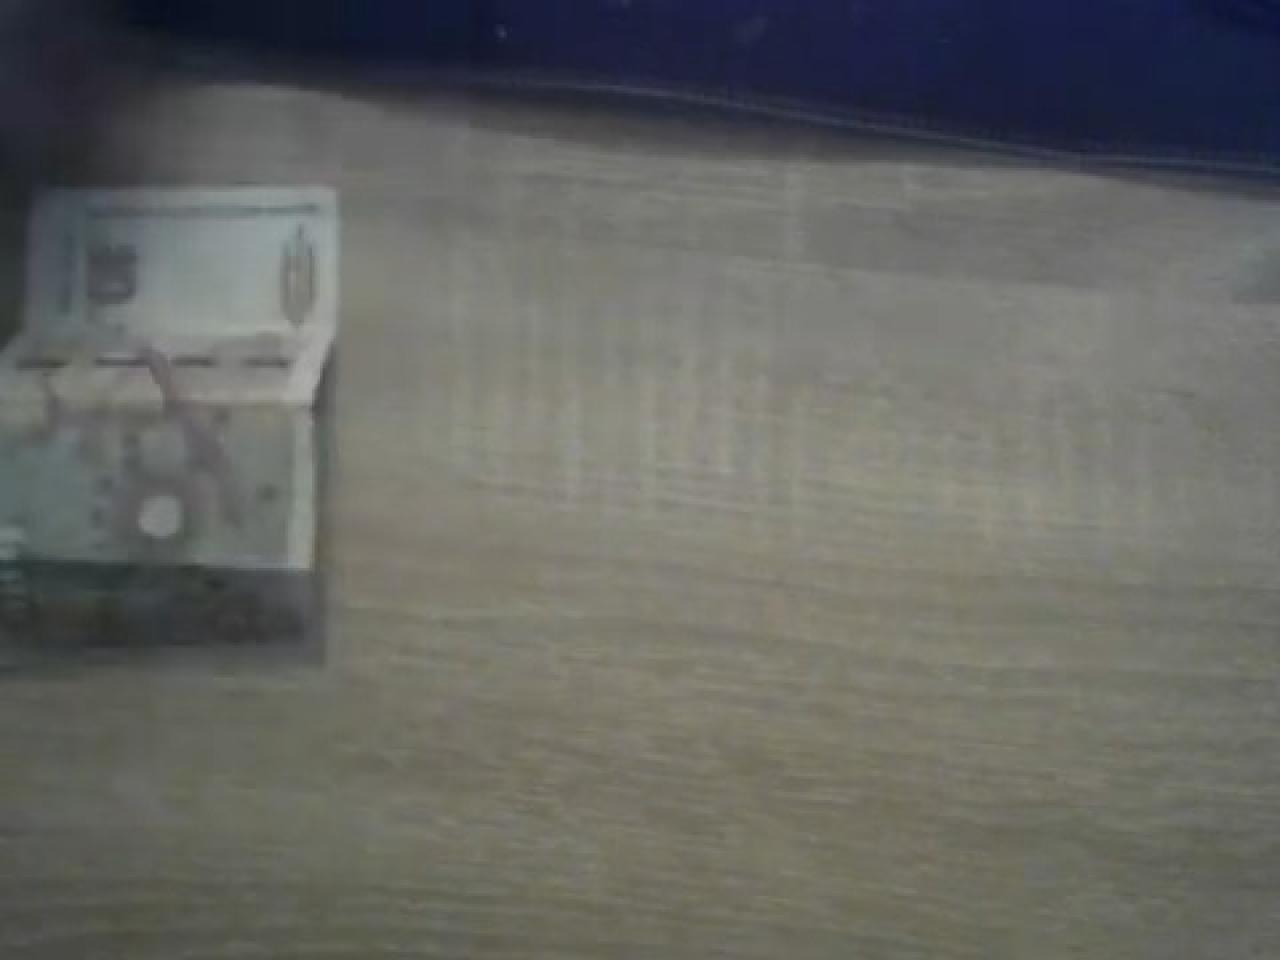10leva: (0, 187, 342, 667)
